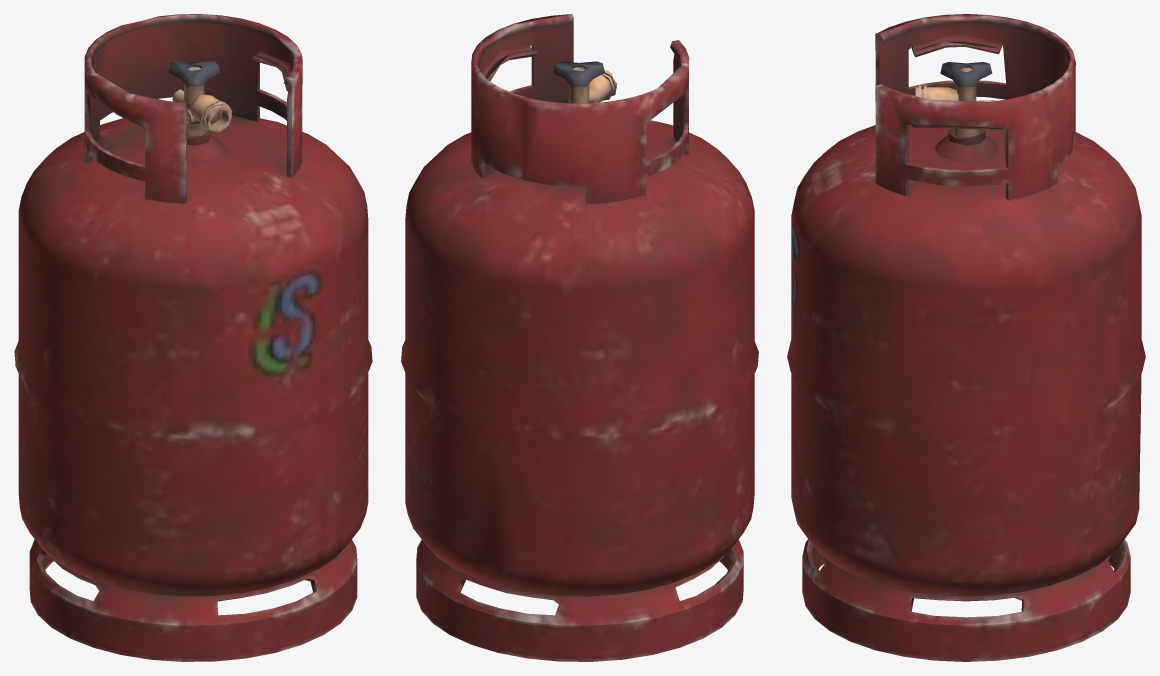
The model's file is lpg.glb.
3 renders of one model, left to right at view 1: azimuth 30°, elevation 25°; view 2: azimuth 150°, elevation 25°; view 3: azimuth 270°, elevation 25°, orthographic.
Parts seen in each view (by area): view 1: propane_tank; view 2: propane_tank; view 3: propane_tank.
Part boxes in pixels (box(x1,y1,x2,y2)): propane_tank: box(14, 14, 372, 661); propane_tank: box(401, 14, 758, 661); propane_tank: box(787, 14, 1145, 661).
Bounding box in the file's own units: 0.3374 × 0.5534 × 0.3374.
1 material, 1 textured.
